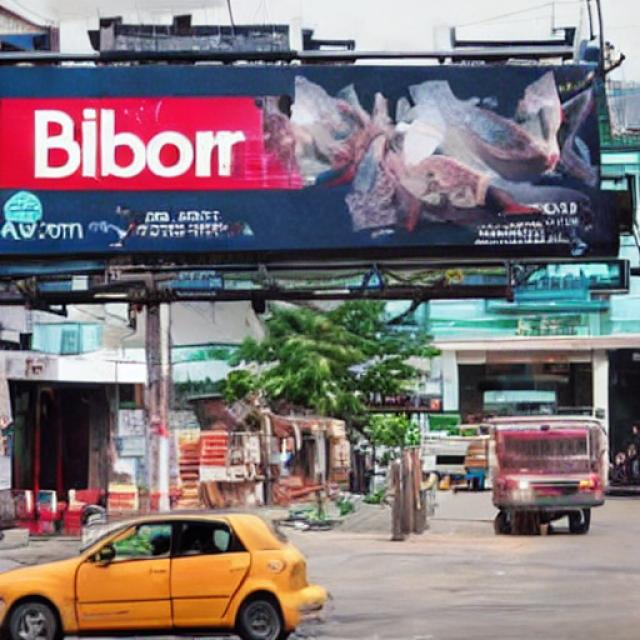Billboard: (0, 52, 604, 272)
